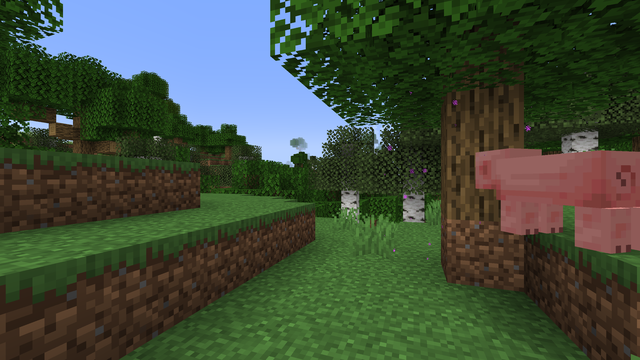cochons: (499, 148, 634, 249)
